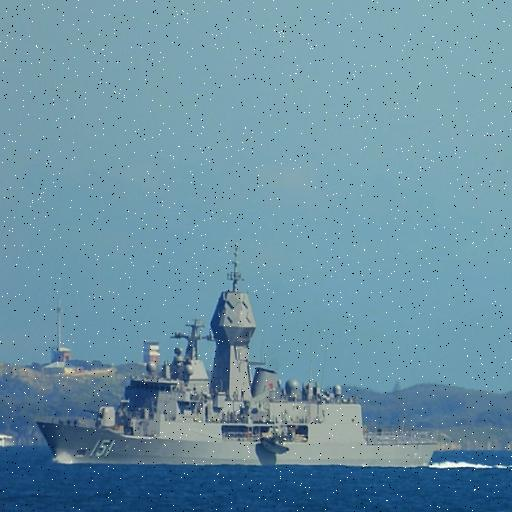Fragata: (32, 250, 439, 473)
